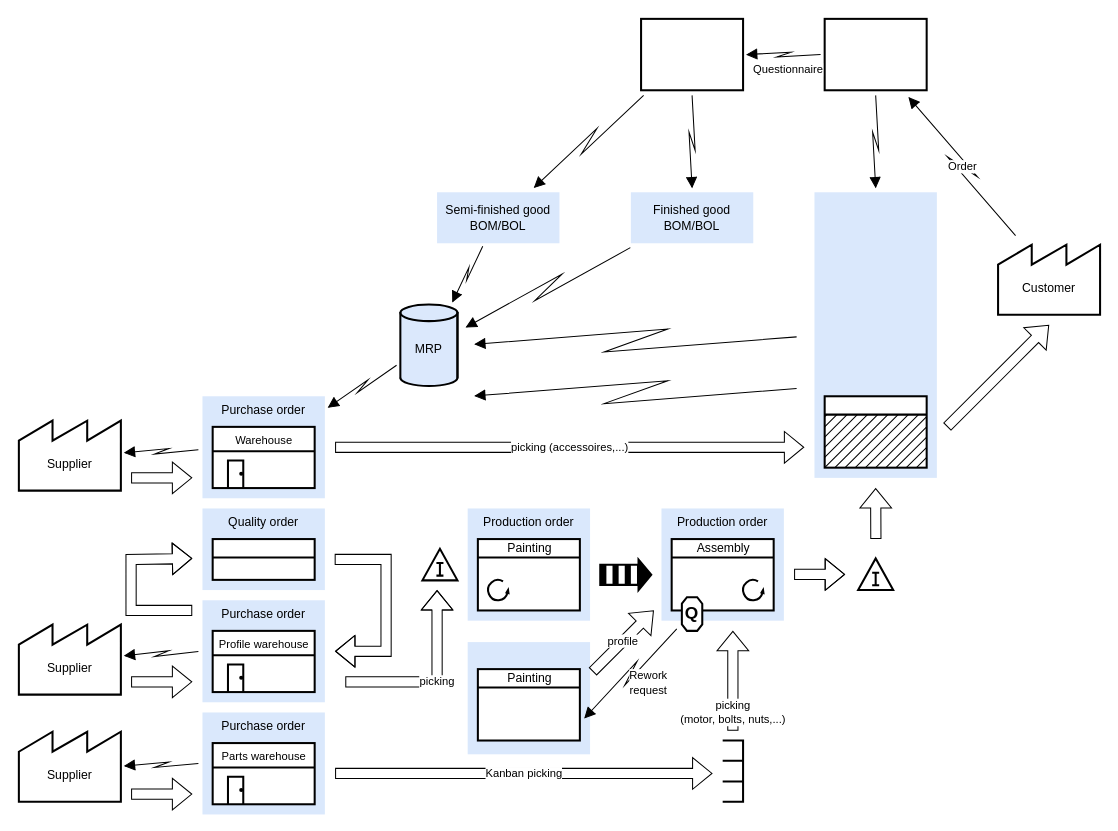
Some shapes in this 1118 by 831 pixel diagram are drawn without their labels. The shapes that lost their labels are listed below. From the top down, each one's box as (x1, y1, x2, y2) in pixels, then its label:
(640, 17, 744, 91): CTO
(823, 17, 927, 91): CPQ
(814, 192, 936, 477): Sales order
(823, 395, 927, 468): Pick, pack & ship
(211, 538, 315, 580): Quality control
(599, 558, 652, 591): profiles
(467, 642, 590, 754): Rework order
(721, 739, 744, 802): Kanban parts
